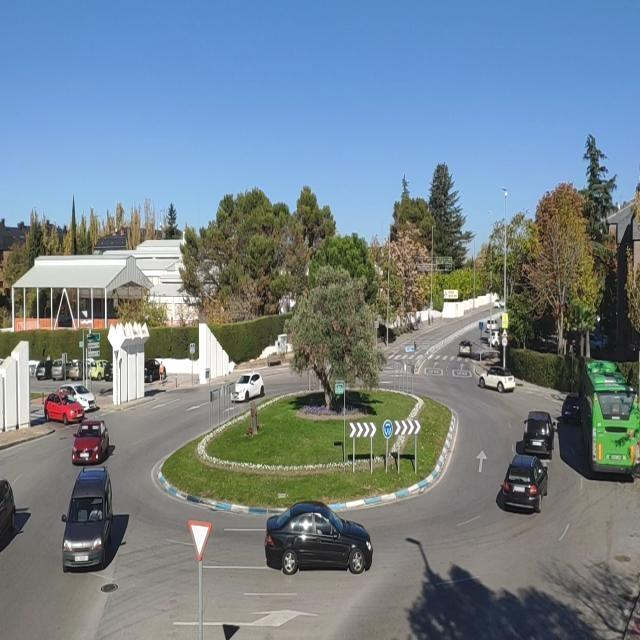Bus: (576, 356, 640, 471)
Car: (266, 500, 372, 575), (498, 457, 552, 512), (72, 419, 114, 467), (524, 407, 552, 455), (479, 364, 519, 394), (232, 370, 266, 400)
Van: (63, 465, 119, 579)
